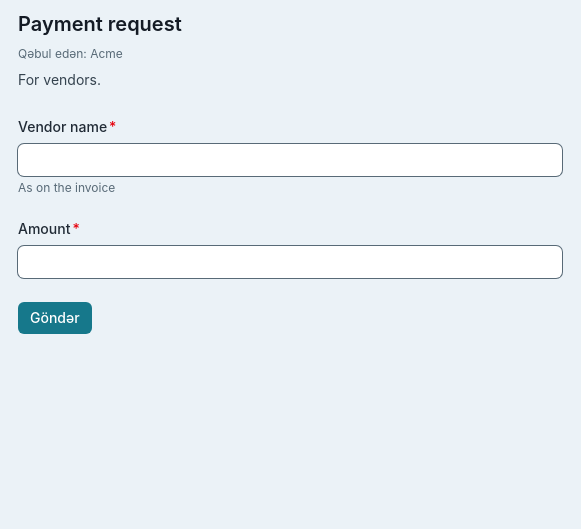
Test: FormPage › shows an accessible error summary instead of sending an incomplete form
Later steps or results of the test are not shown.
Click the button "Göndər".
click(55, 318)  # box [18,302,92,334]
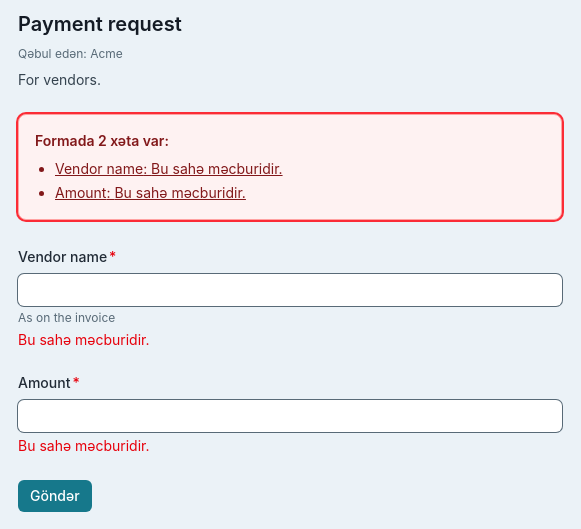
Expected: the message shows "Formada 2 xəta var", [35,132,169,149]
